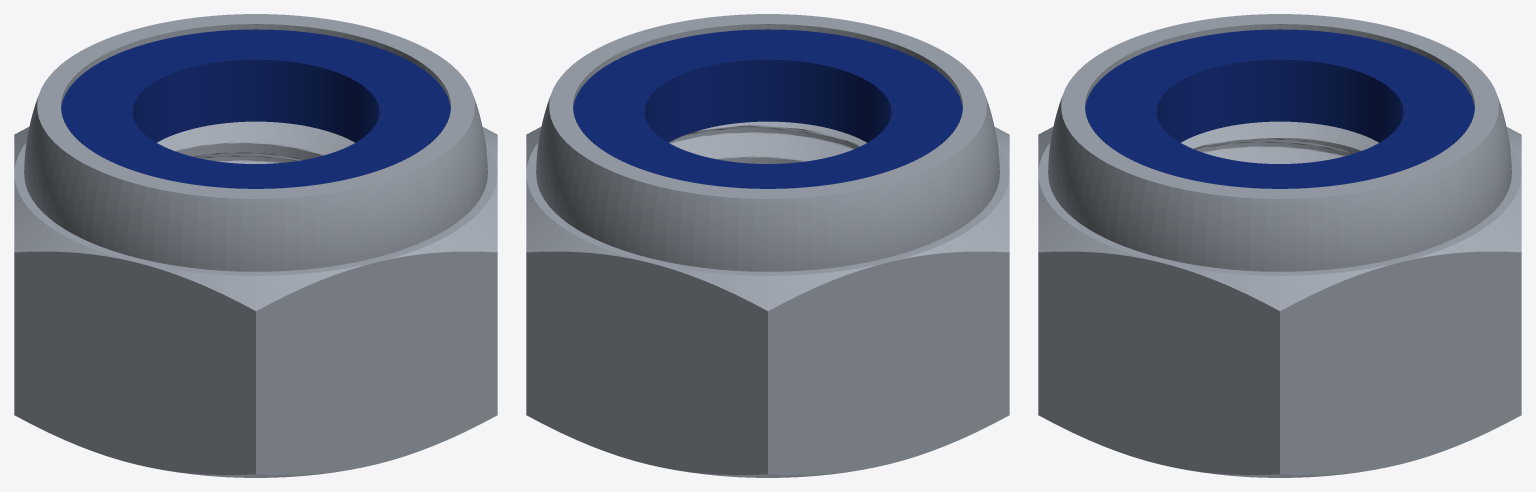
The model's file is model_full.glb.
3 renders of one model, left to right at view 1: azimuth 30°, elevation 25°; view 2: azimuth 150°, elevation 25°; view 3: azimuth 270°, elevation 25°, orthographic.
Visible parts, largest first — view 1: steel, nylon_insert; view 2: steel, nylon_insert; view 3: steel, nylon_insert.
Boxes of the visible parts, box(x1,y1,x2,y2) form: steel: box(14, 14, 497, 477); nylon_insert: box(61, 29, 450, 188); steel: box(526, 14, 1009, 477); nylon_insert: box(573, 29, 962, 188); steel: box(1038, 14, 1521, 477); nylon_insert: box(1085, 29, 1474, 188).
Bounding box in the file's own units: 0.015 × 0.008 × 0.013.
